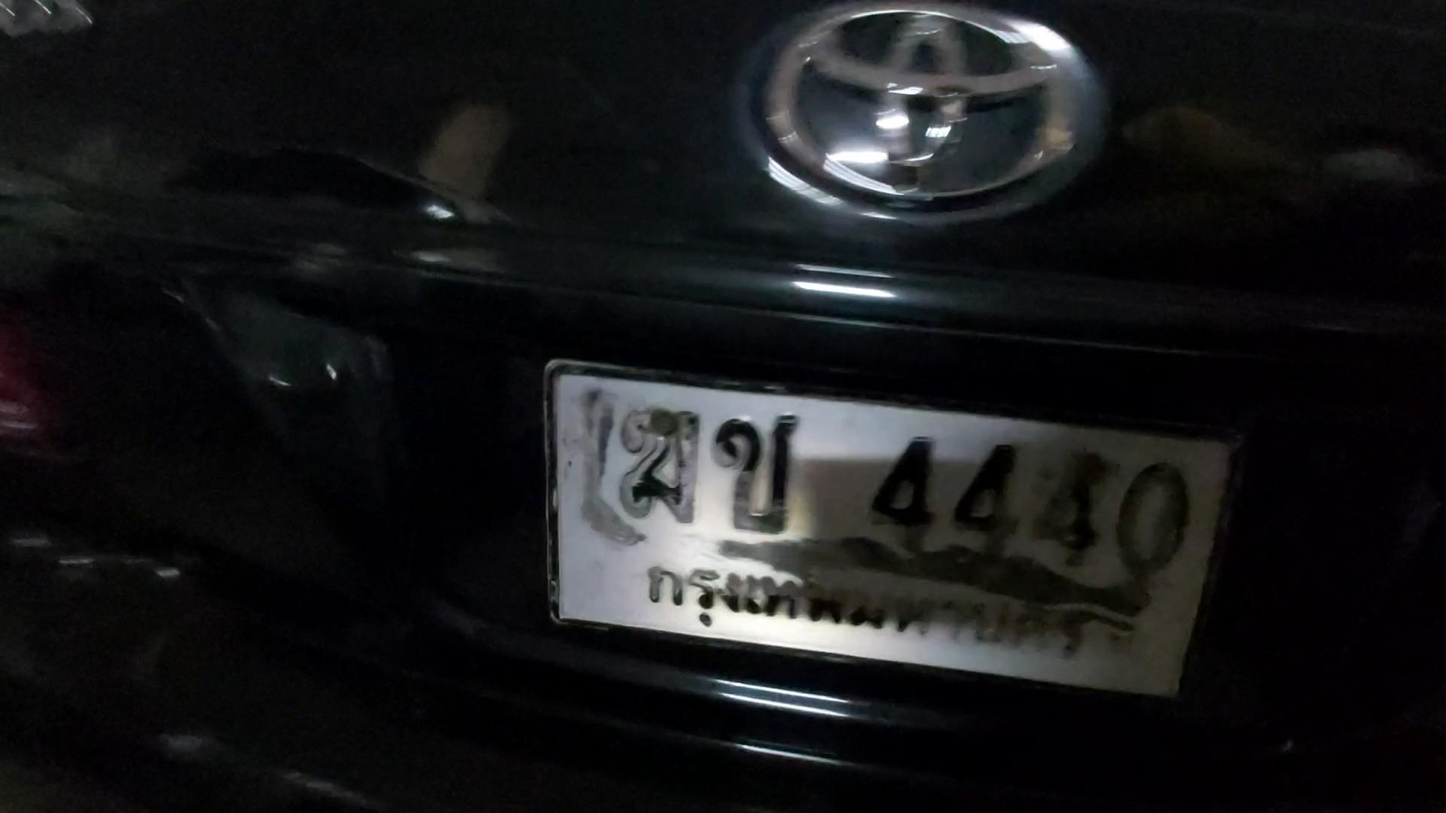license-plate: (551, 366, 1228, 703)
